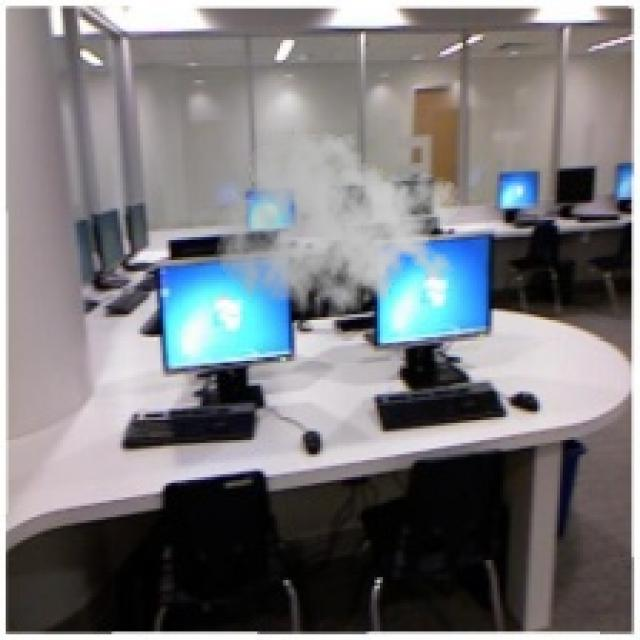smoke: (214, 120, 463, 337)
